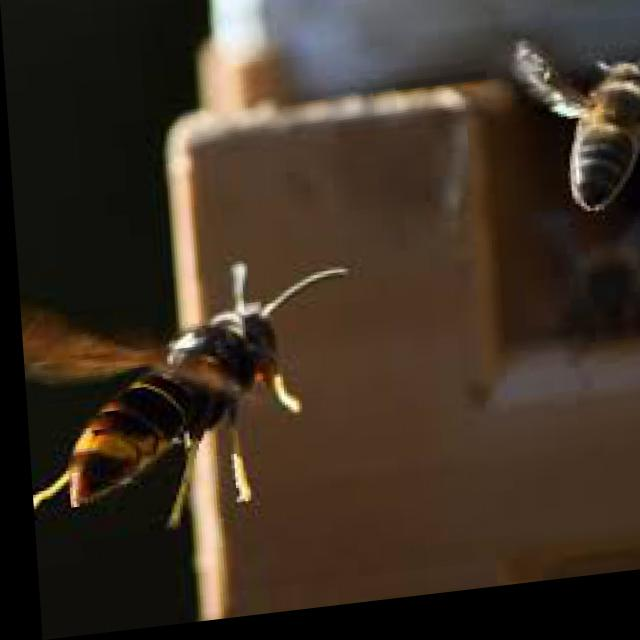Vespa Velutina: (15, 252, 363, 552)
